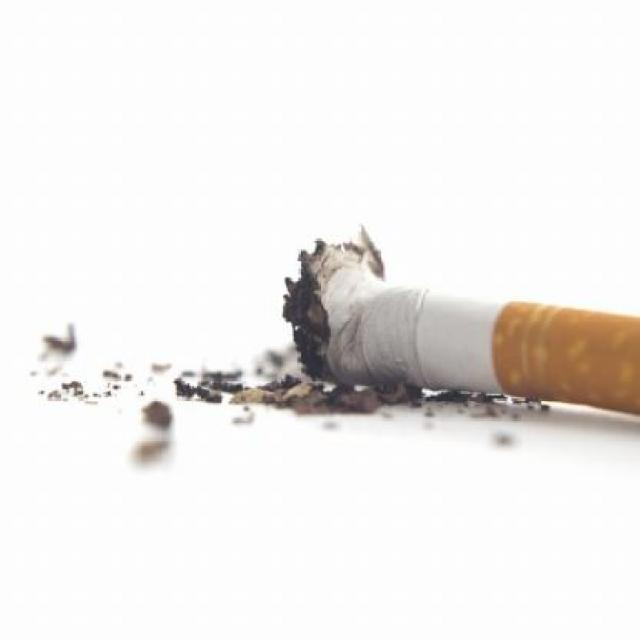cigarette: (285, 207, 633, 501)
